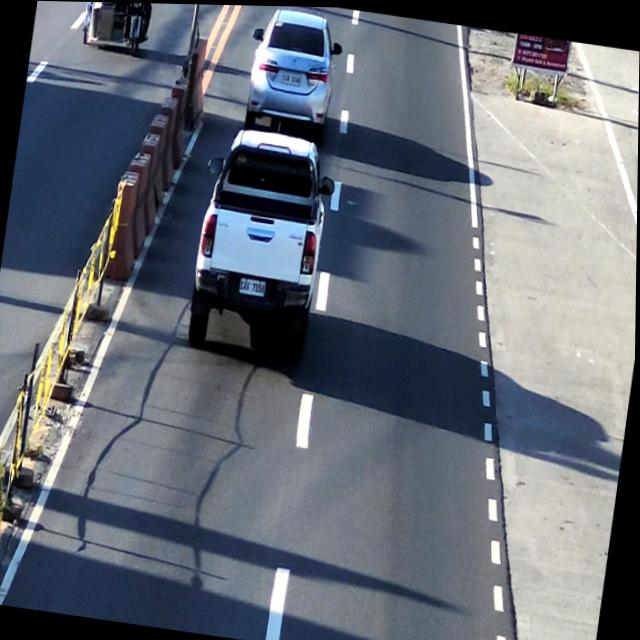Car: (188, 123, 336, 359), (243, 4, 344, 137)
License-Plate: (236, 274, 266, 299), (280, 67, 303, 85)
